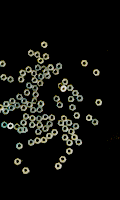nut: (22, 168, 30, 175), (55, 163, 63, 170), (14, 158, 21, 166), (51, 129, 59, 136), (75, 139, 83, 146), (72, 123, 80, 130), (61, 115, 68, 123), (36, 122, 44, 129), (37, 101, 45, 108), (31, 85, 39, 92), (76, 95, 84, 102), (60, 85, 67, 93), (81, 60, 89, 67), (47, 64, 55, 71), (34, 51, 41, 59), (41, 41, 48, 49), (16, 143, 23, 150), (66, 148, 73, 155), (34, 138, 41, 145), (46, 133, 53, 140), (67, 140, 74, 147), (71, 134, 78, 141), (68, 129, 75, 136), (62, 126, 69, 133), (66, 120, 73, 127), (58, 120, 65, 127), (1, 122, 8, 129), (7, 123, 14, 130), (17, 127, 24, 134), (21, 127, 28, 134), (35, 129, 42, 136), (42, 126, 49, 133), (46, 121, 53, 128), (29, 122, 36, 129), (20, 120, 27, 127), (23, 113, 30, 120), (29, 115, 36, 122), (42, 114, 49, 121), (49, 115, 56, 122), (86, 115, 93, 122), (92, 119, 99, 126), (2, 108, 9, 115), (8, 105, 15, 112), (3, 101, 10, 108), (9, 98, 16, 105), (20, 105, 27, 112), (21, 98, 28, 105), (16, 94, 23, 101), (69, 104, 76, 111), (68, 96, 75, 103), (72, 90, 79, 97), (67, 85, 74, 92), (37, 80, 44, 87), (93, 69, 100, 76), (7, 76, 14, 83), (0, 74, 7, 81), (19, 70, 26, 77), (25, 67, 32, 74), (38, 73, 45, 80), (31, 70, 38, 77), (43, 69, 50, 76), (41, 66, 48, 73), (56, 63, 63, 70), (59, 157, 67, 163), (28, 139, 34, 147), (95, 100, 103, 106), (41, 137, 47, 144), (62, 135, 69, 141), (14, 124, 20, 131), (36, 116, 43, 122), (74, 113, 81, 119), (14, 103, 21, 109), (30, 107, 36, 114), (37, 107, 43, 114), (26, 102, 33, 108), (31, 98, 38, 104), (32, 92, 39, 98), (24, 90, 31, 96), (26, 83, 33, 89), (57, 102, 63, 109), (53, 96, 60, 102), (62, 79, 69, 85), (0, 61, 6, 68), (18, 77, 25, 83), (32, 77, 38, 84), (35, 65, 41, 72), (44, 73, 51, 79), (53, 69, 59, 76), (37, 58, 44, 64), (43, 53, 49, 60), (28, 50, 34, 57), (58, 83, 64, 89), (0, 105, 4, 111)
